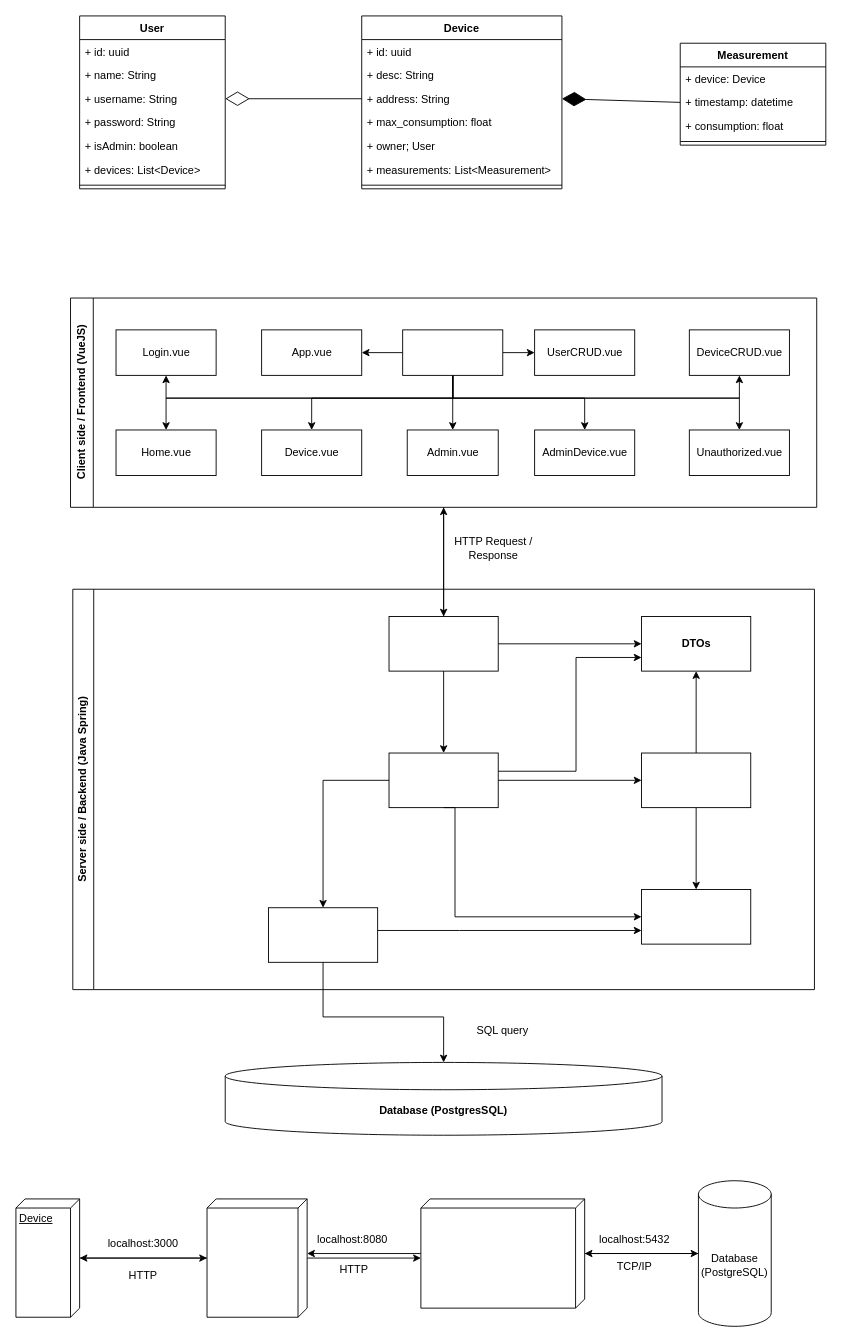
This 842x1342 diagram has some shape labels left out. Each missing label, with the centre of its shape:
Backend / Server (Spring): (x=502, y=1253)
Controllers: (x=443, y=643)
Entities: (x=696, y=916)
Mappers: (x=696, y=780)
Port: (x=256, y=1257)
Repositories: (x=323, y=934)
Router: (x=452, y=352)
Services: (x=443, y=780)
